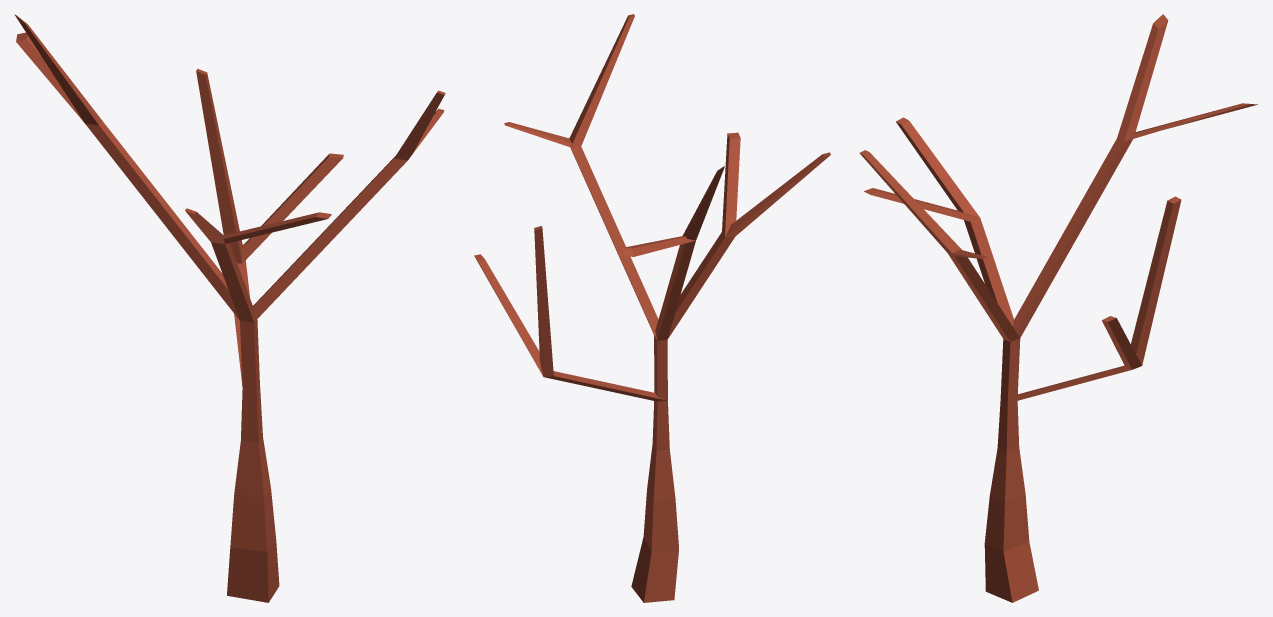
Rendered from Tree5.fbx.
3 renders of one model, left to right at view 1: azimuth 30°, elevation 25°; view 2: azimuth 150°, elevation 25°; view 3: azimuth 270°, elevation 25°, orthographic. The views are drawn at different scales.
Visible parts, largest first — view 1: Plane.001; view 2: Plane.001; view 3: Plane.001.
Part boxes in pixels (x1=…): Plane.001: x1=14, y1=14, x2=445, y2=602; Plane.001: x1=474, y1=14, x2=830, y2=602; Plane.001: x1=859, y1=14, x2=1257, y2=602.
Bounding box in the file's own units: 229 × 365 × 260.
